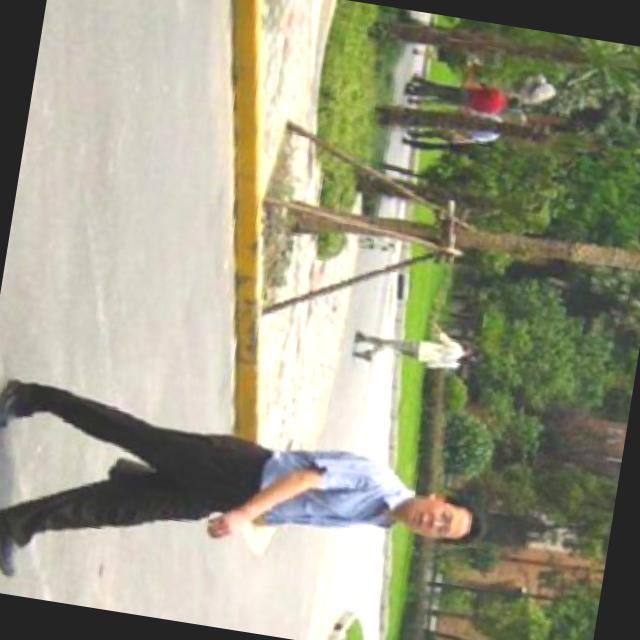Person: (0, 360, 494, 640), (334, 302, 488, 396), (397, 58, 526, 132)
